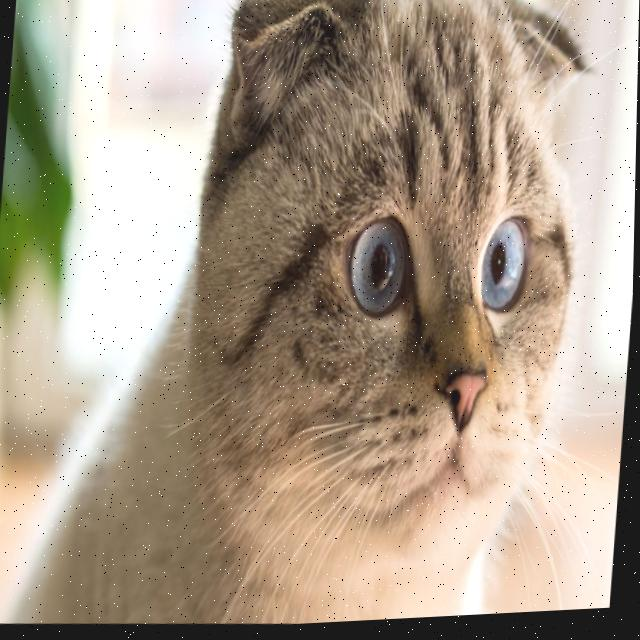Scottish Fold: (0, 0, 604, 640)
